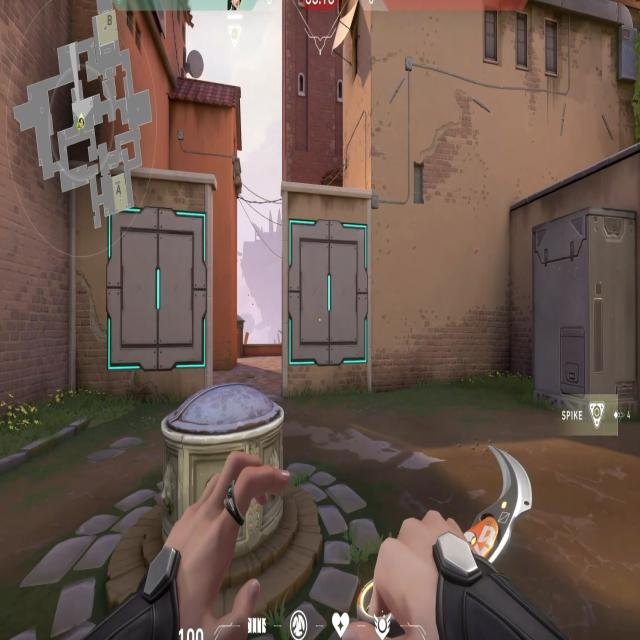Mid_Wall: (107, 202, 210, 374), (285, 217, 368, 372)
